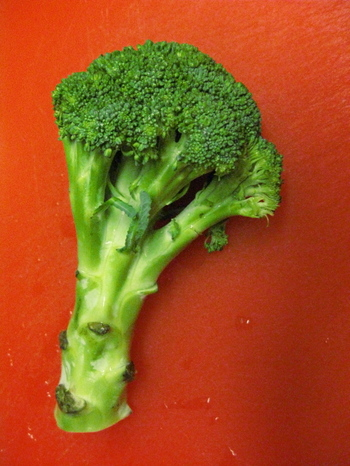broccoli: (51, 39, 281, 432)
